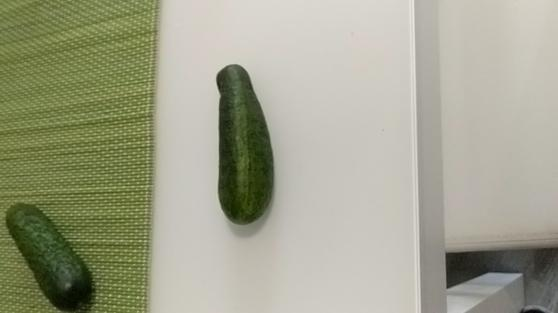cucumber: (214, 55, 280, 228), (11, 201, 95, 313)
